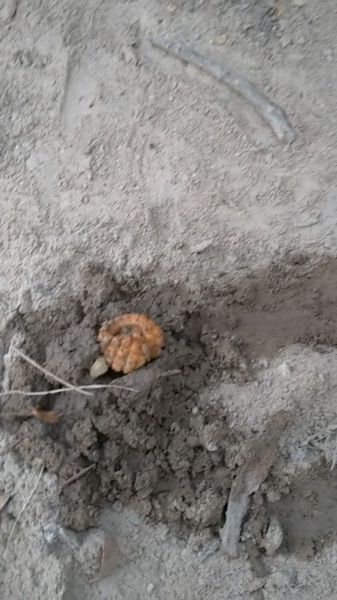eggs: (93, 312, 167, 375)
